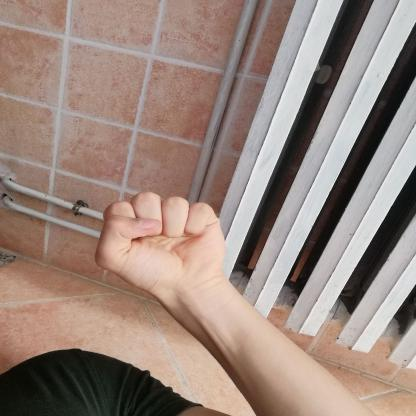SAD: (86, 182, 240, 296)
